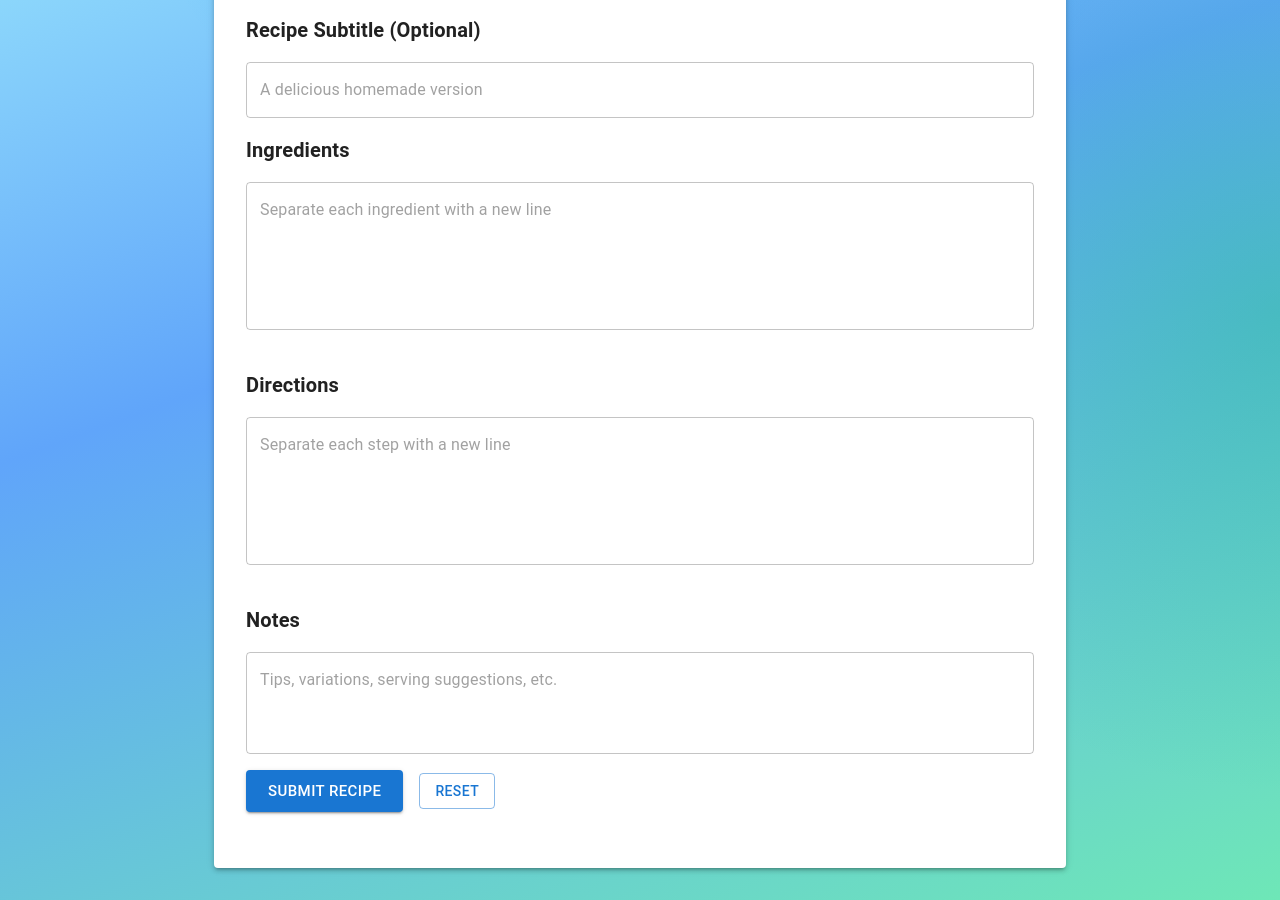
Home - Recipe Submission Form › shows validation errors when submitting with empty required fields
(page scrolled)
Click the button "Submit Recipe" at (325, 791), box top-left (246, 770), bottom-right (403, 812)
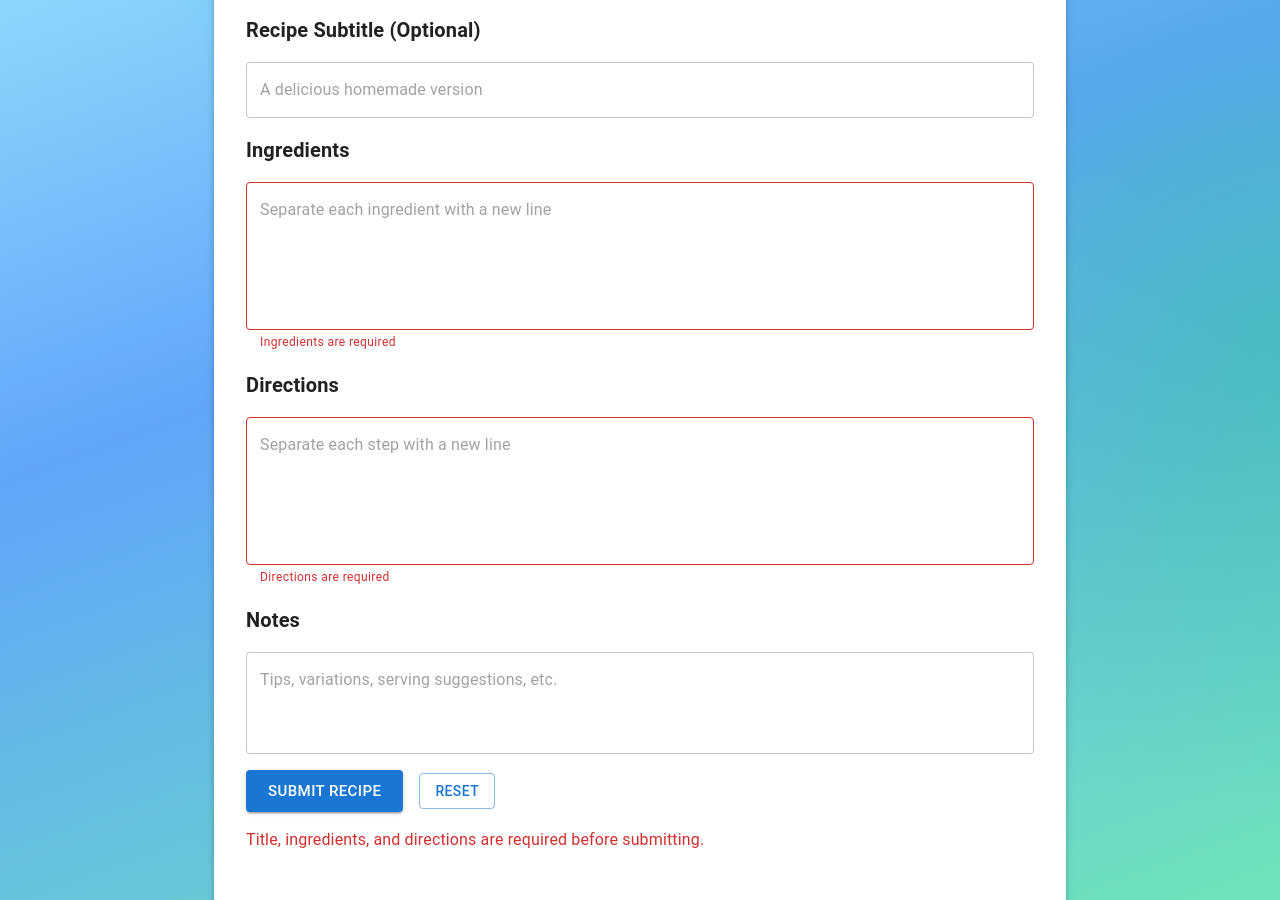
Check: the text "Ingredients are required" is shown, box top-left (260, 335), bottom-right (396, 349)
Check: the text "Directions are required" is shown, box top-left (260, 570), bottom-right (390, 584)
Check: the text "Title, ingredients, and directions are required before submitting" is shown, box top-left (246, 830), bottom-right (704, 849)
